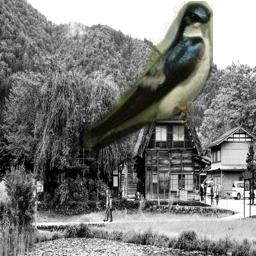Swallow: (83, 1, 213, 153)
